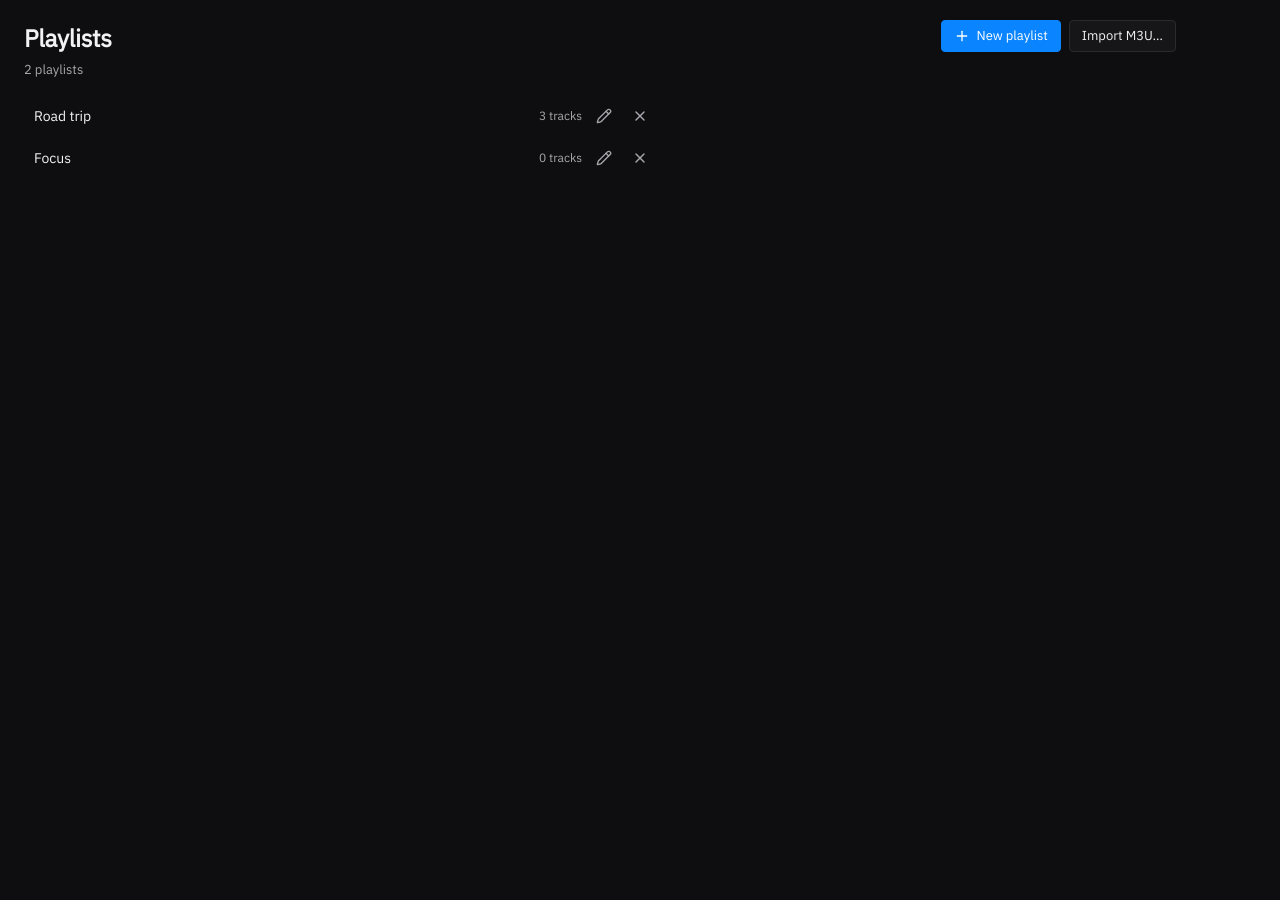
Test: PlaylistsView › delete (confirm dialog instead of window.confirm) › keeps the playlist when cancelled
Step 1. Click the button named "Delete playlist" next to "3 tracks" → (640, 116), box left=626, top=104, right=654, bottom=128
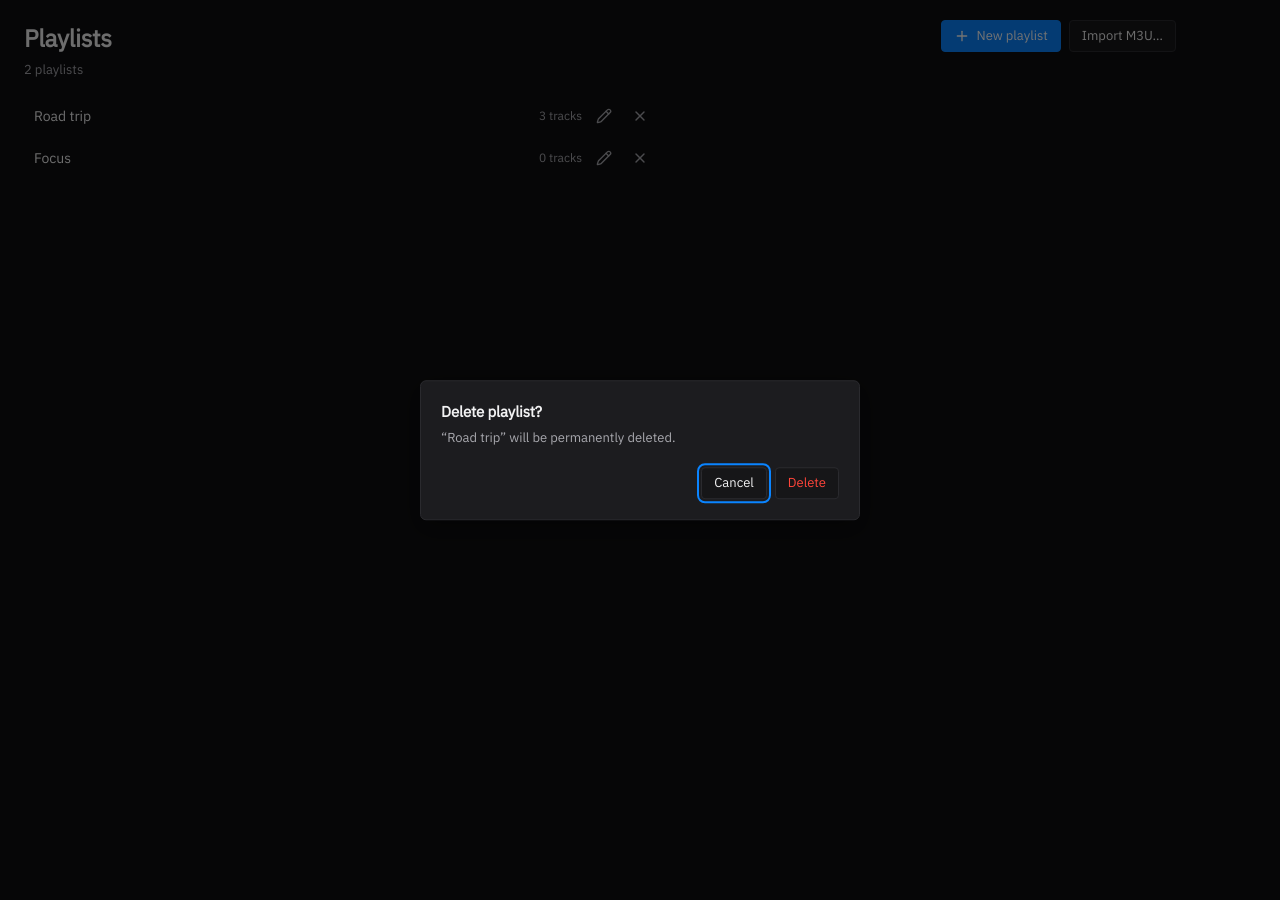
Step 2. Click the button "Cancel" → (734, 483), box left=701, top=467, right=767, bottom=499
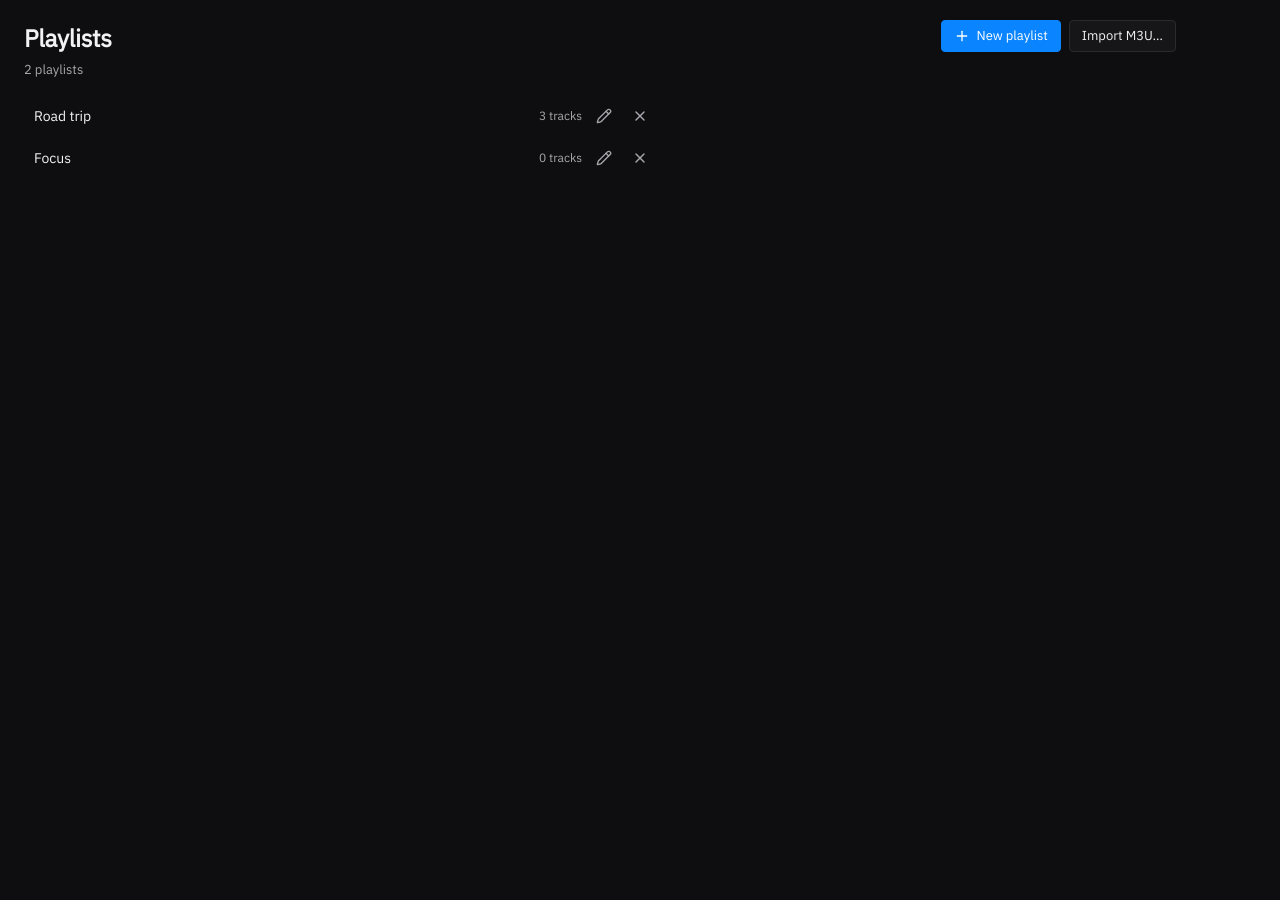
expect the dialog is gone: met
